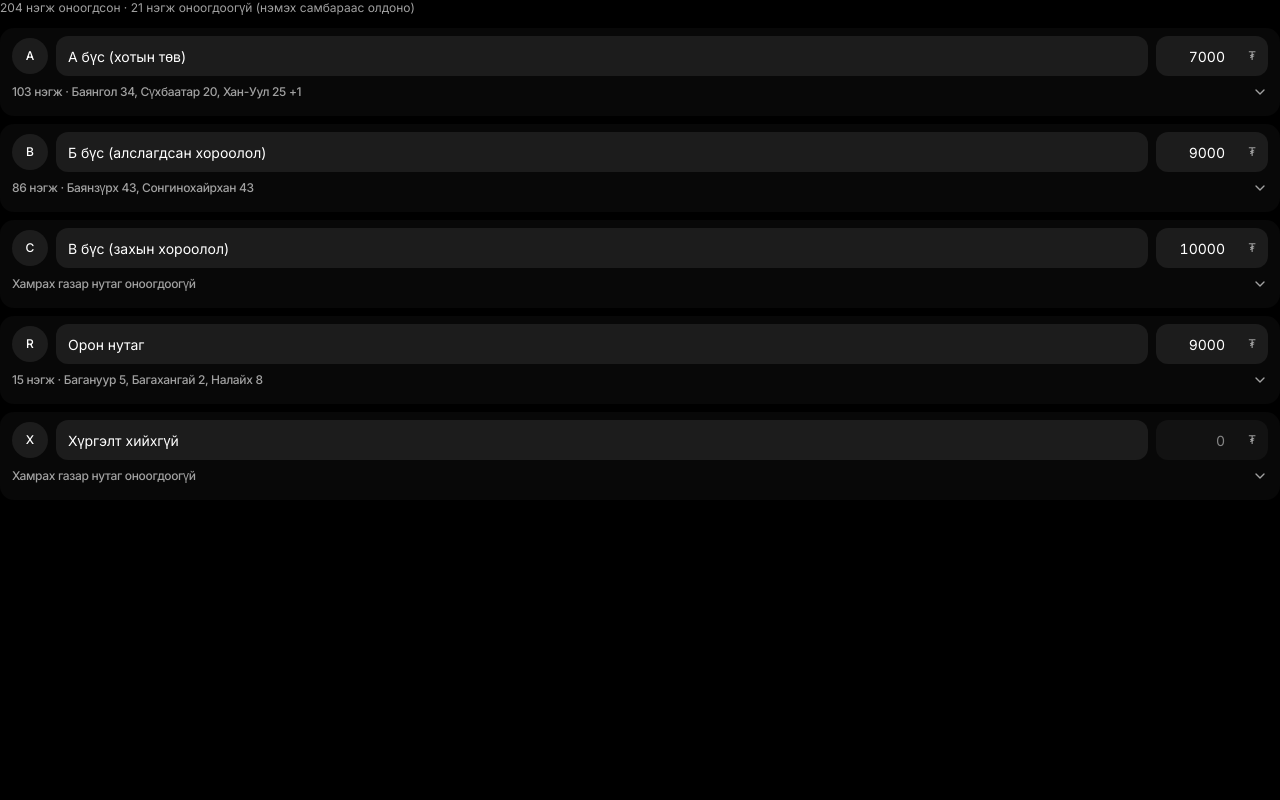
ZoneEditor › never renders the full city-district-khoroo string on a chip
Click the button "103 нэгж · Баянгол 34, Сүхбаатар 20, Хан-Уул 25 +1" at (157,92), box [12,76,1268,108]
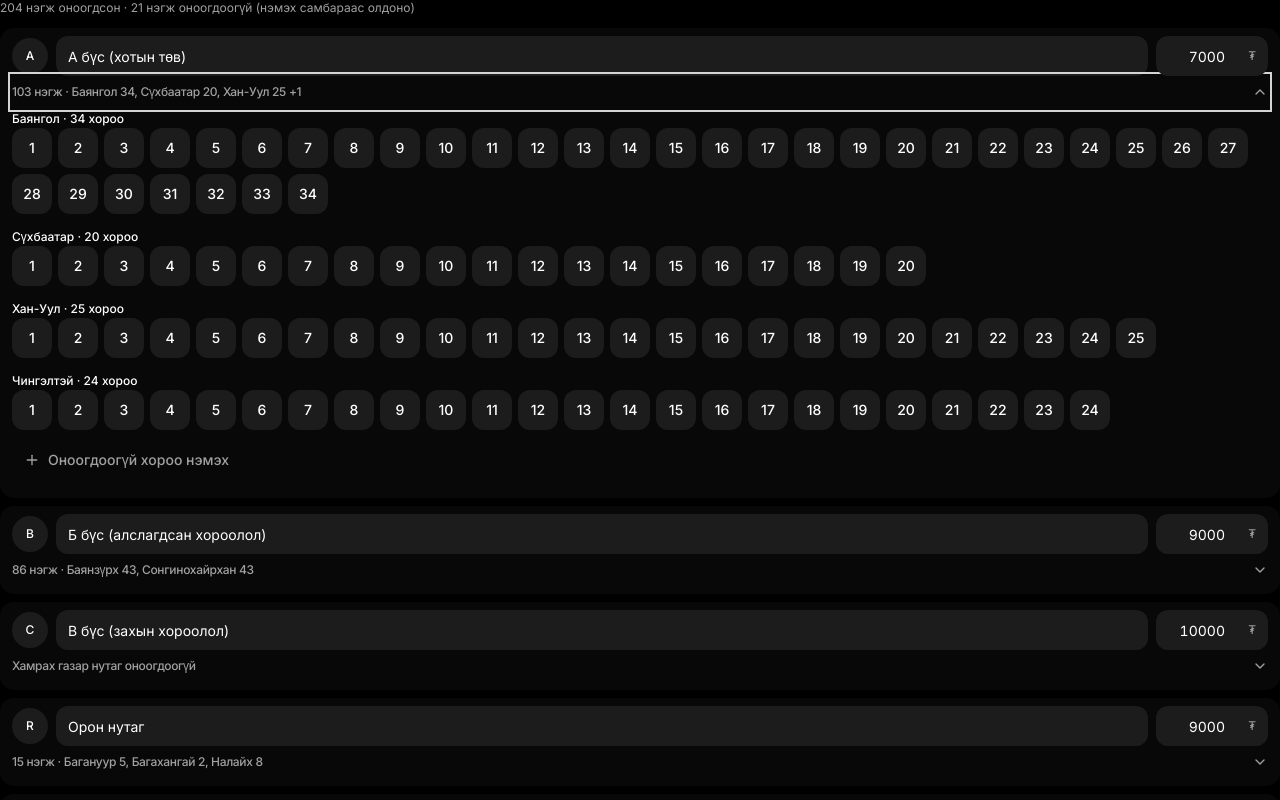
Expected: the 1st button "5" is shown, [196,128,236,168]
